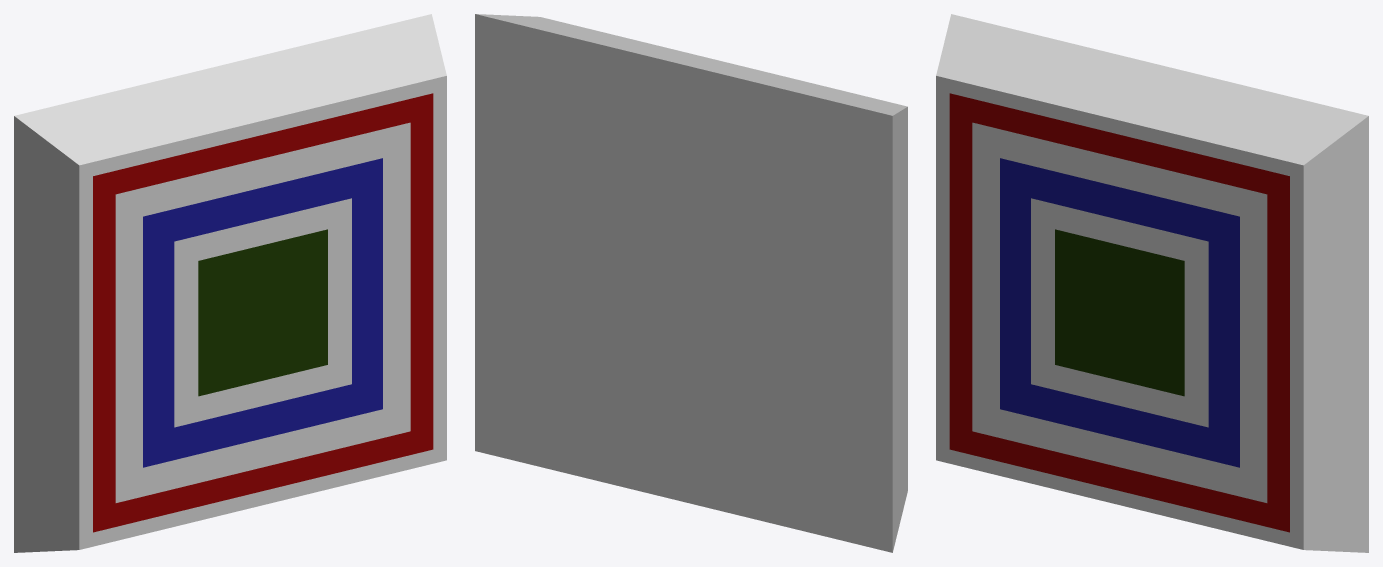
The model's file is SciFi_Modular_Semiotic_Refridgerated_Storage_Organic_Foodstuffs_01.fbx.
3 views of the same model, side by side, from view 1: azimuth 30°, elevation 25°; view 2: azimuth 150°, elevation 25°; view 3: azimuth 330°, elevation 25° (orthographic).
Visible parts, largest first — view 1: SciFi_Modular_Semiotic_Refridgerated_Storage_Organic_Foodstu; view 2: SciFi_Modular_Semiotic_Refridgerated_Storage_Organic_Foodstu; view 3: SciFi_Modular_Semiotic_Refridgerated_Storage_Organic_Foodstu.
Part boxes in pixels (x1,y1,x2,y2): SciFi_Modular_Semiotic_Refridgerated_Storage_Organic_Foodstu: (14, 14, 446, 552); SciFi_Modular_Semiotic_Refridgerated_Storage_Organic_Foodstu: (475, 14, 907, 552); SciFi_Modular_Semiotic_Refridgerated_Storage_Organic_Foodstu: (936, 14, 1368, 552).
Size of the model in its own units: 21.12 by 21.12 by 3.52.
